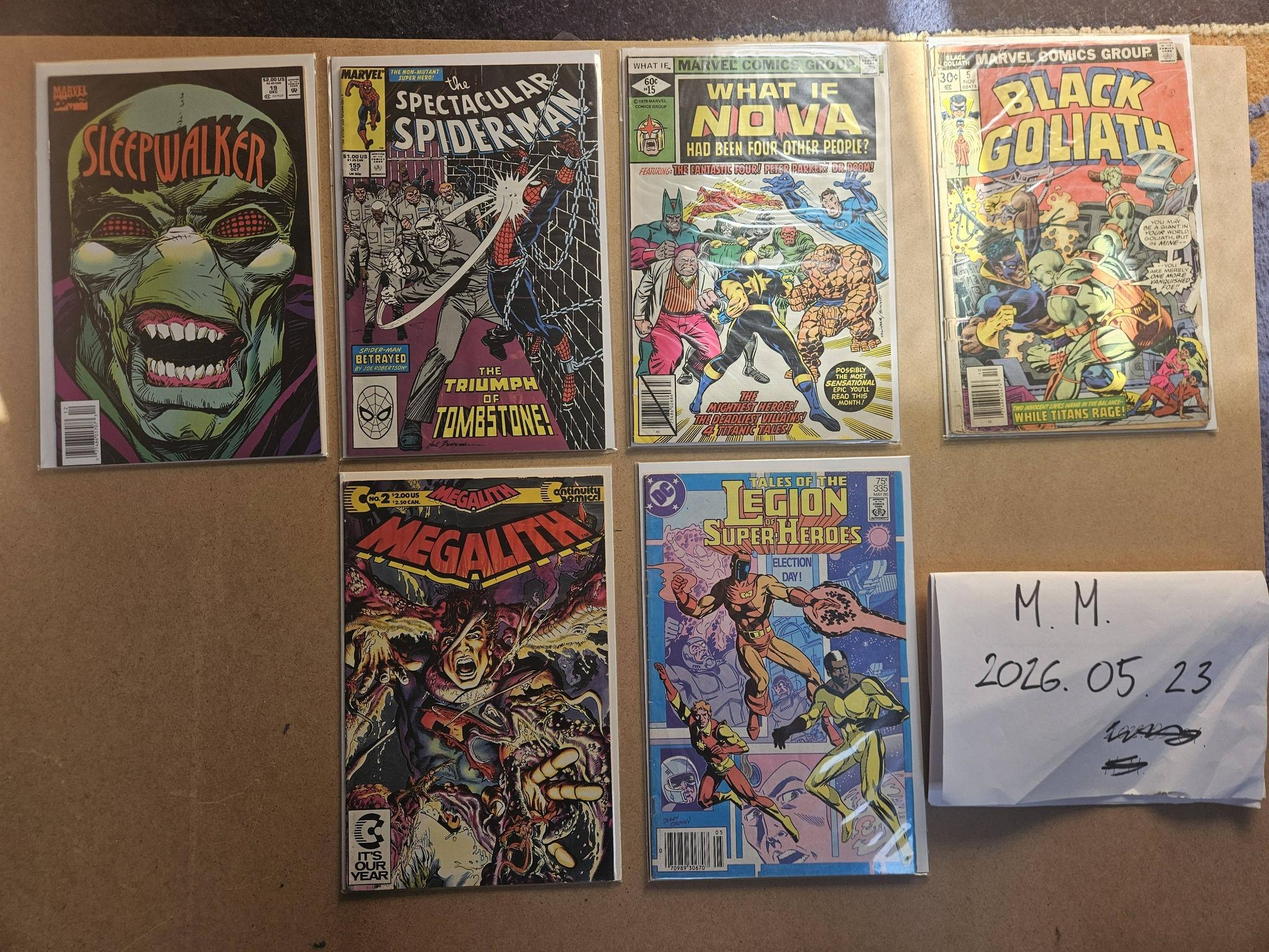comic: (27, 55, 327, 467), (636, 455, 926, 880), (334, 468, 620, 890), (928, 28, 1214, 440), (330, 50, 613, 459), (621, 42, 898, 446)
